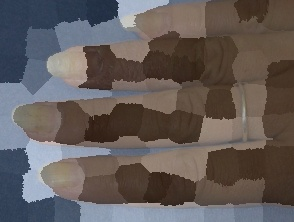Nail_psoriasis: (42, 32, 119, 95), (36, 153, 94, 196), (11, 99, 73, 139), (116, 5, 178, 40)
